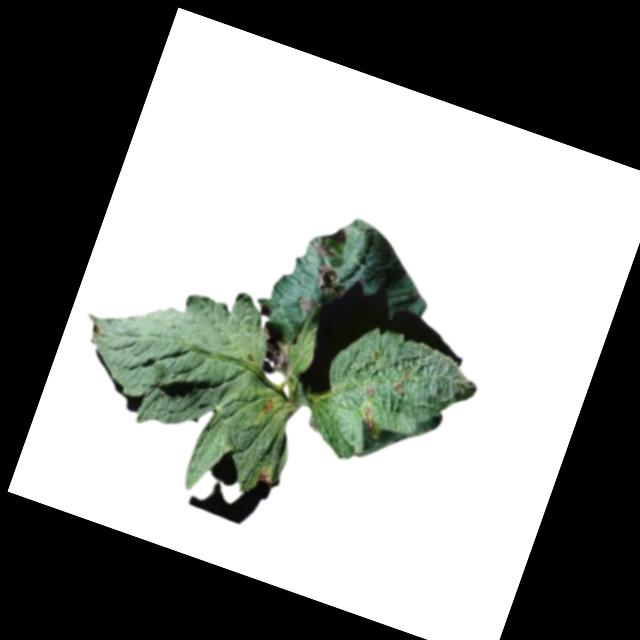Early_blight: (257, 330, 298, 377), (309, 261, 351, 300), (357, 404, 386, 435), (293, 290, 320, 315), (311, 237, 338, 261), (255, 467, 274, 487), (260, 395, 277, 414), (391, 377, 408, 395), (362, 383, 378, 399)
